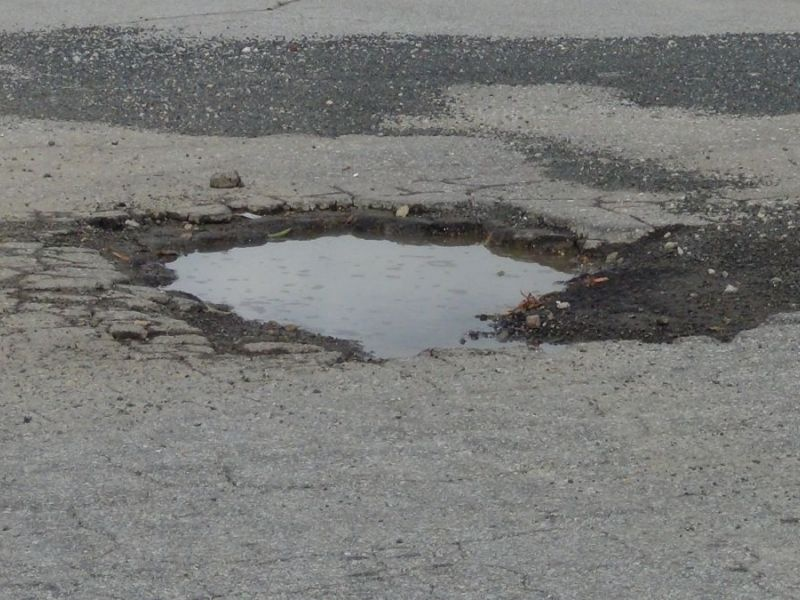pothole: (89, 139, 652, 404)
